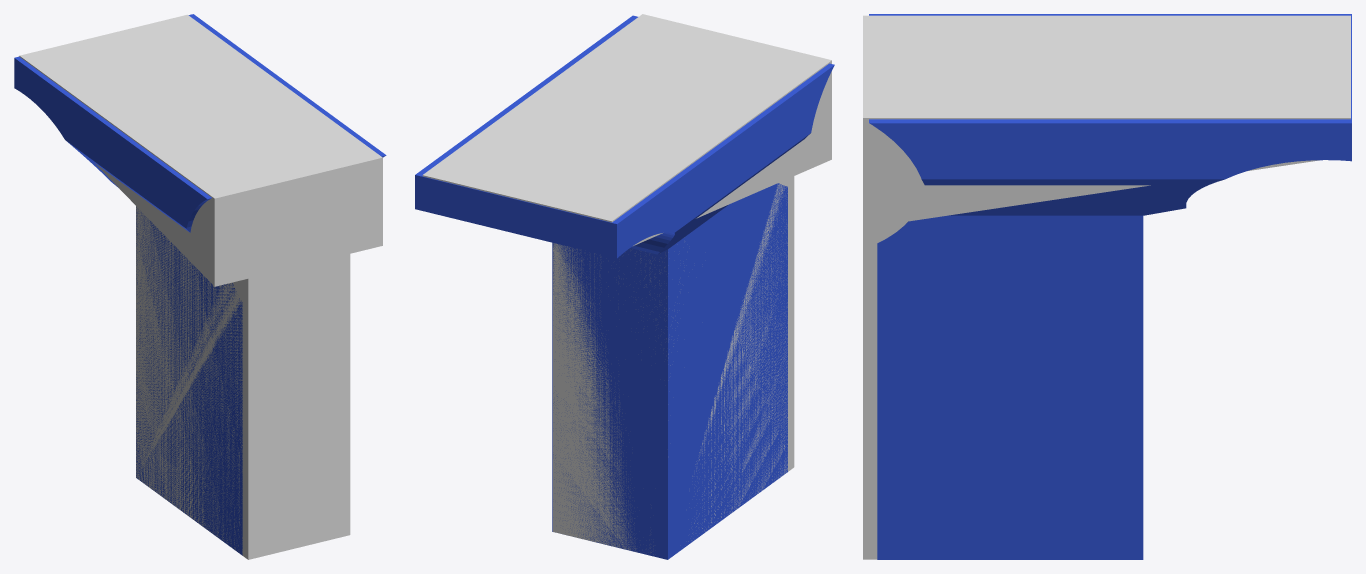
File: OneBreak.gltf
The picture shows the model from 3 angles, left to right: view 1: azimuth 30°, elevation 25°; view 2: azimuth 150°, elevation 25°; view 3: azimuth 270°, elevation 25°; orthographic projection. The views are drawn at different scales.
Visible parts, largest first — view 1: COL, Cube; view 2: Cube, COL; view 3: Cube, COL.
Part boxes in pixels (x1,y1,x2,y2): COL: (19,14,382,559); Cube: (14,14,386,555); Cube: (415,15,834,559); COL: (422,14,831,554); Cube: (869,14,1351,559); COL: (863,15,1350,559).
Bounding box in the file's own units: 1.85 × 3.63 × 3.49.
